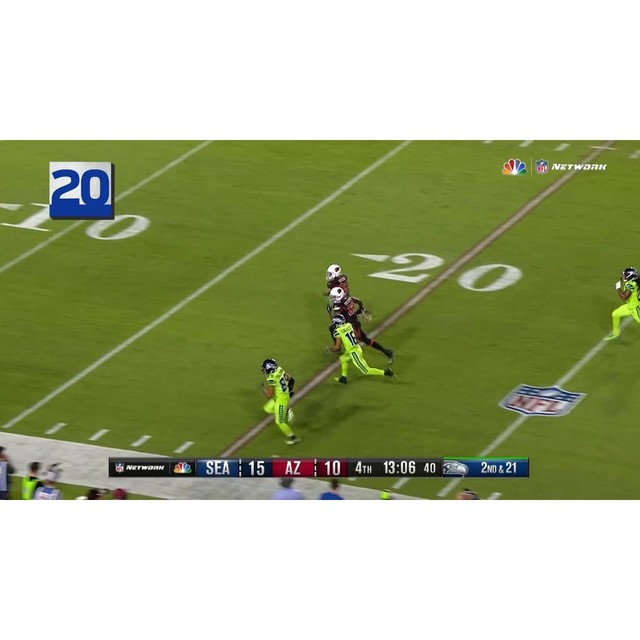american-football-player: (323, 285, 393, 362), (323, 316, 396, 386), (259, 359, 301, 445), (604, 267, 640, 344)
